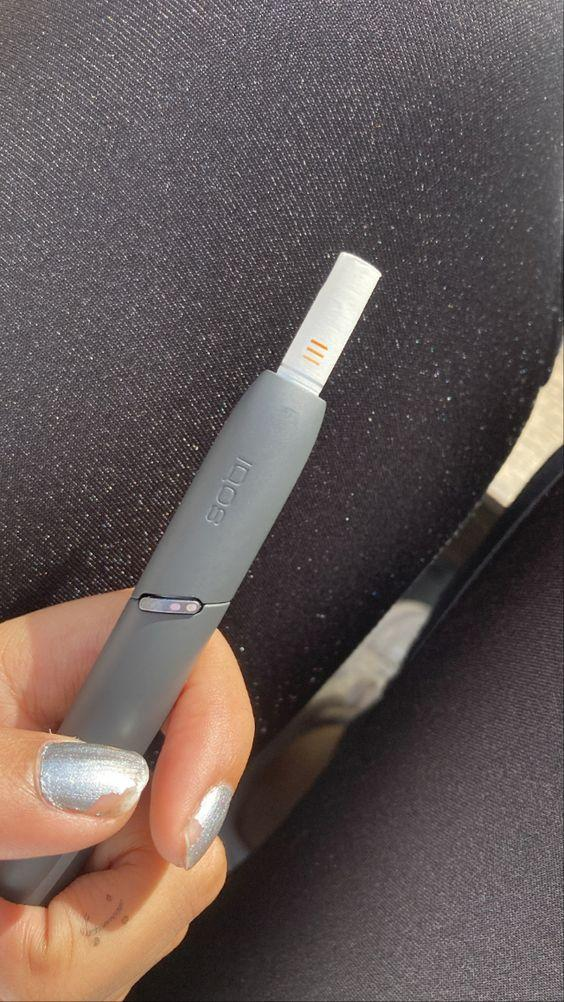iqos: (0, 247, 381, 904)
